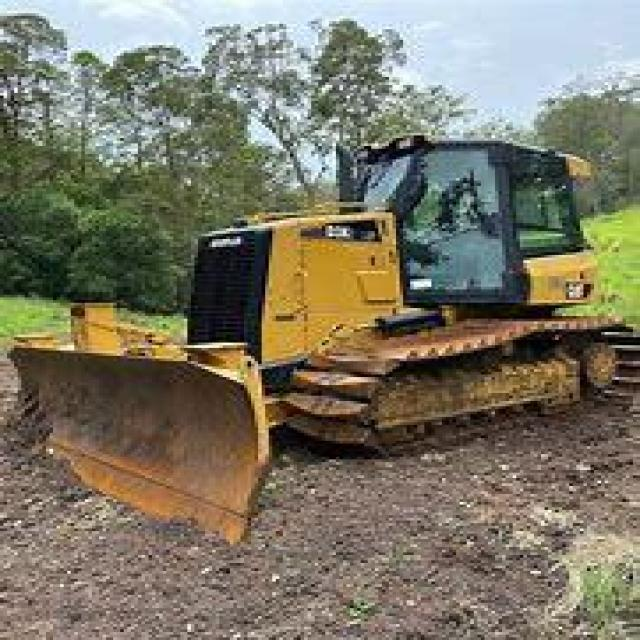buldozerpayloadergrader: (3, 69, 633, 539)
